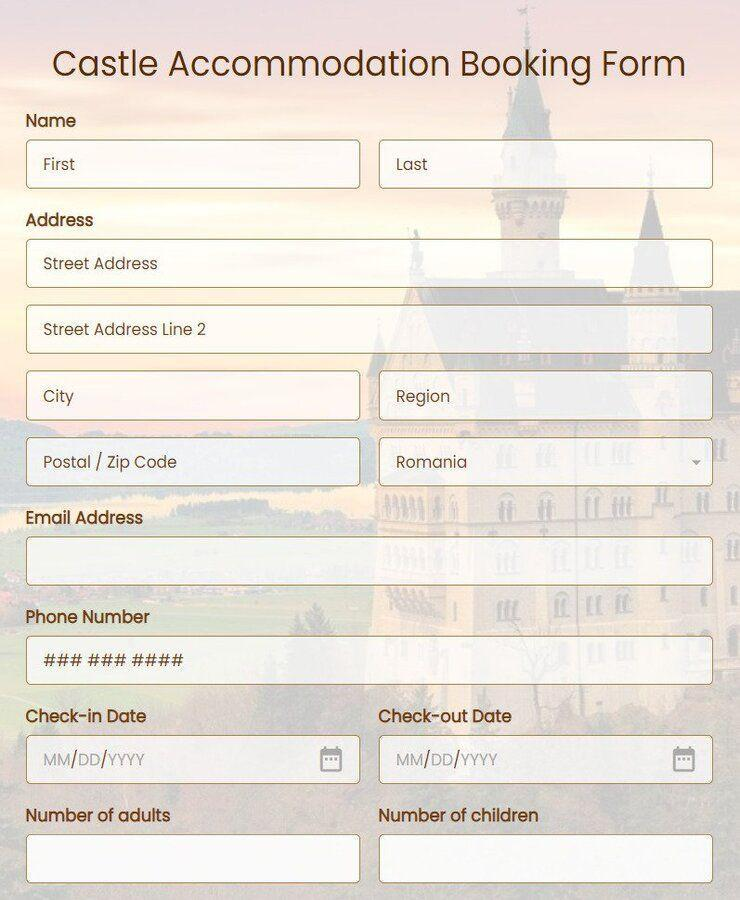dropdown: (381, 436, 715, 491)
input: (26, 535, 717, 590), (26, 302, 716, 355), (25, 239, 714, 291), (25, 635, 711, 683), (375, 367, 719, 425), (378, 136, 715, 194), (25, 370, 362, 428), (378, 831, 719, 888), (23, 135, 362, 191), (23, 435, 362, 491), (27, 735, 360, 790), (380, 736, 715, 788), (27, 836, 365, 886)
label: (376, 800, 541, 829), (20, 803, 176, 826), (378, 705, 515, 728), (26, 703, 147, 729), (23, 607, 151, 631), (26, 511, 146, 530), (26, 211, 99, 229), (22, 110, 76, 131)
